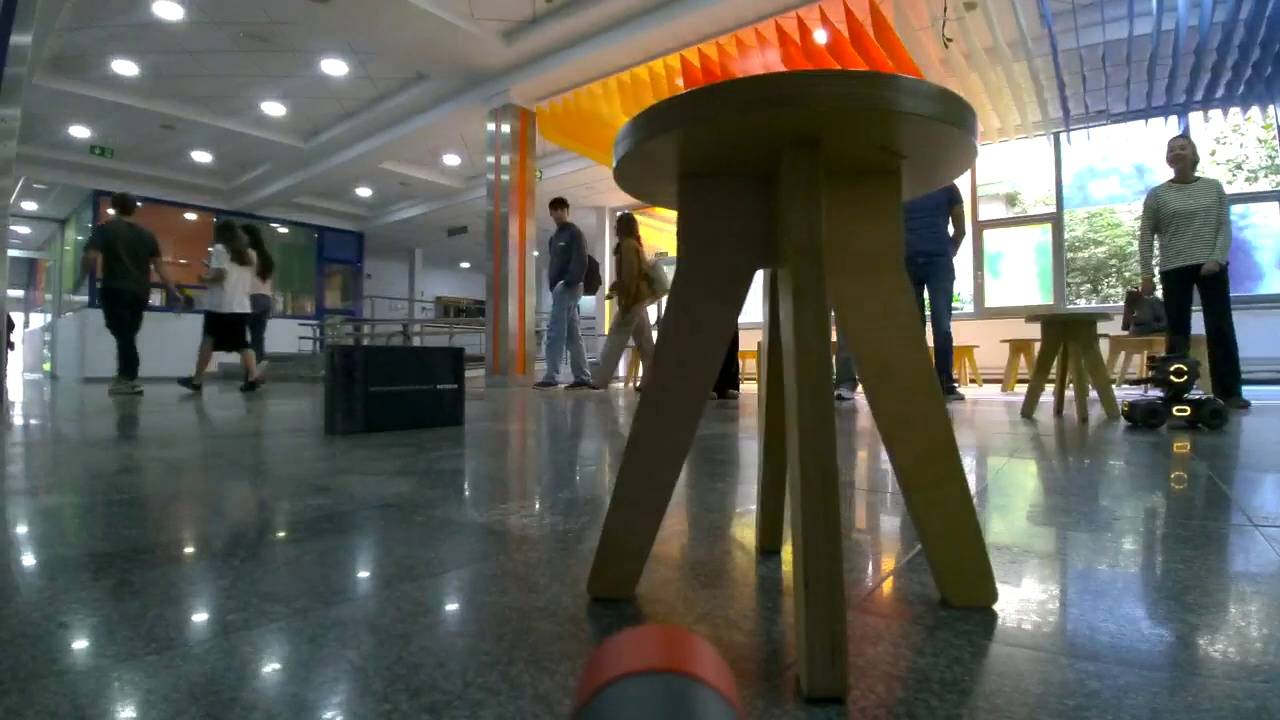robot: (1118, 352, 1232, 433)
